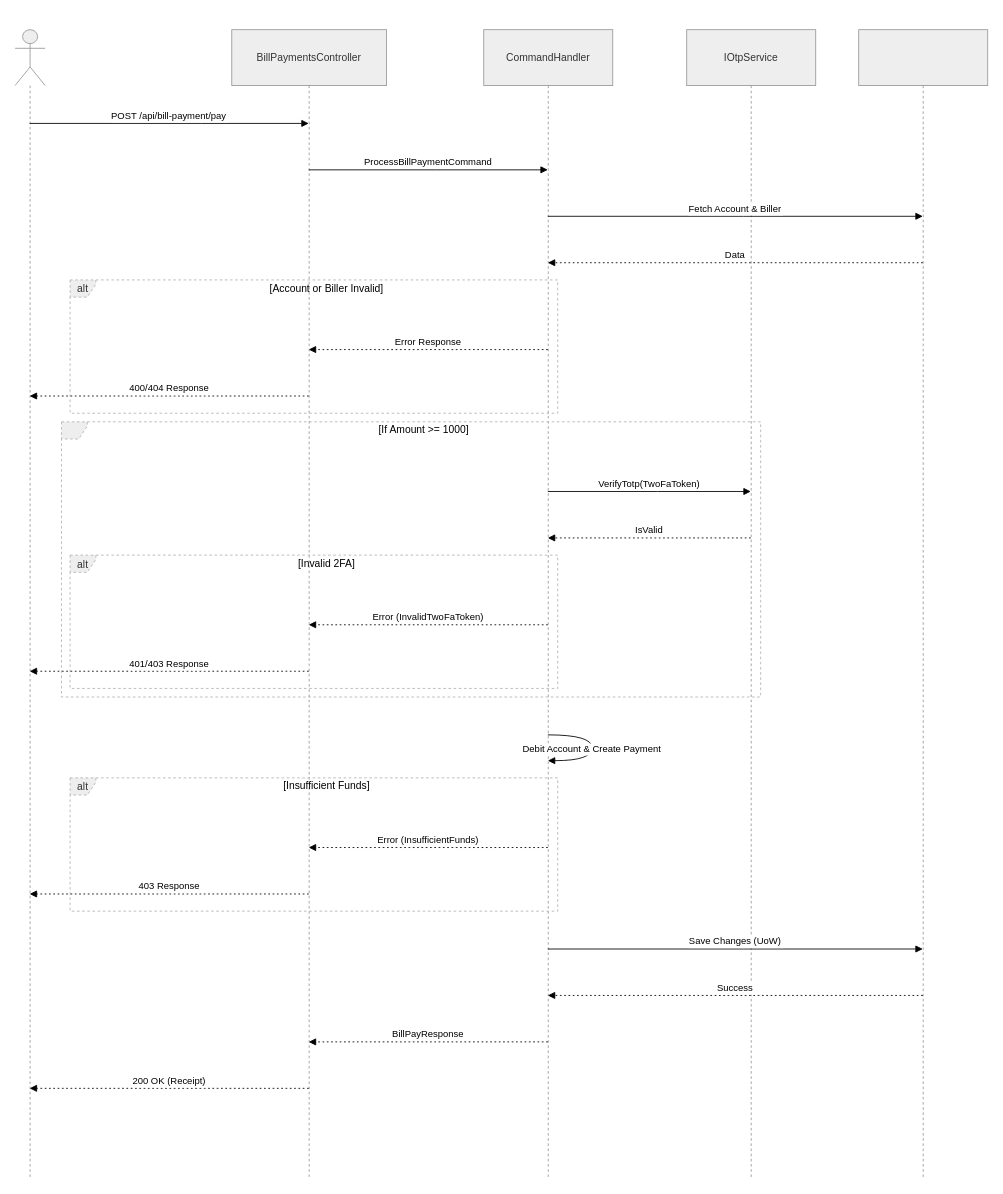
The diagram is 1003 pixels wide and 1194 high, and some of its shapes have lost their labels. The shapes that lost their labels are listed below. From the top down, each one's box as (x1, y1, x2, y2) in pixels, then its label:
(61, 421, 761, 697): opt
(14, 29, 45, 1179): Client
(858, 29, 988, 1179): Database Layer
